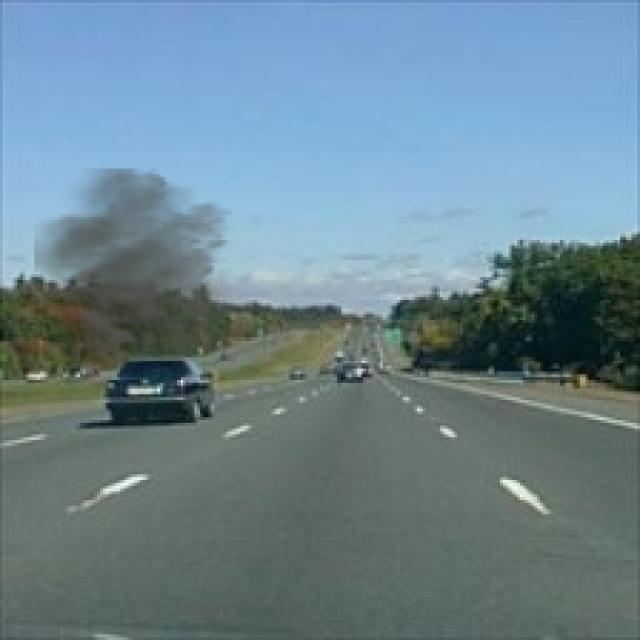smoke: (34, 169, 254, 377)
